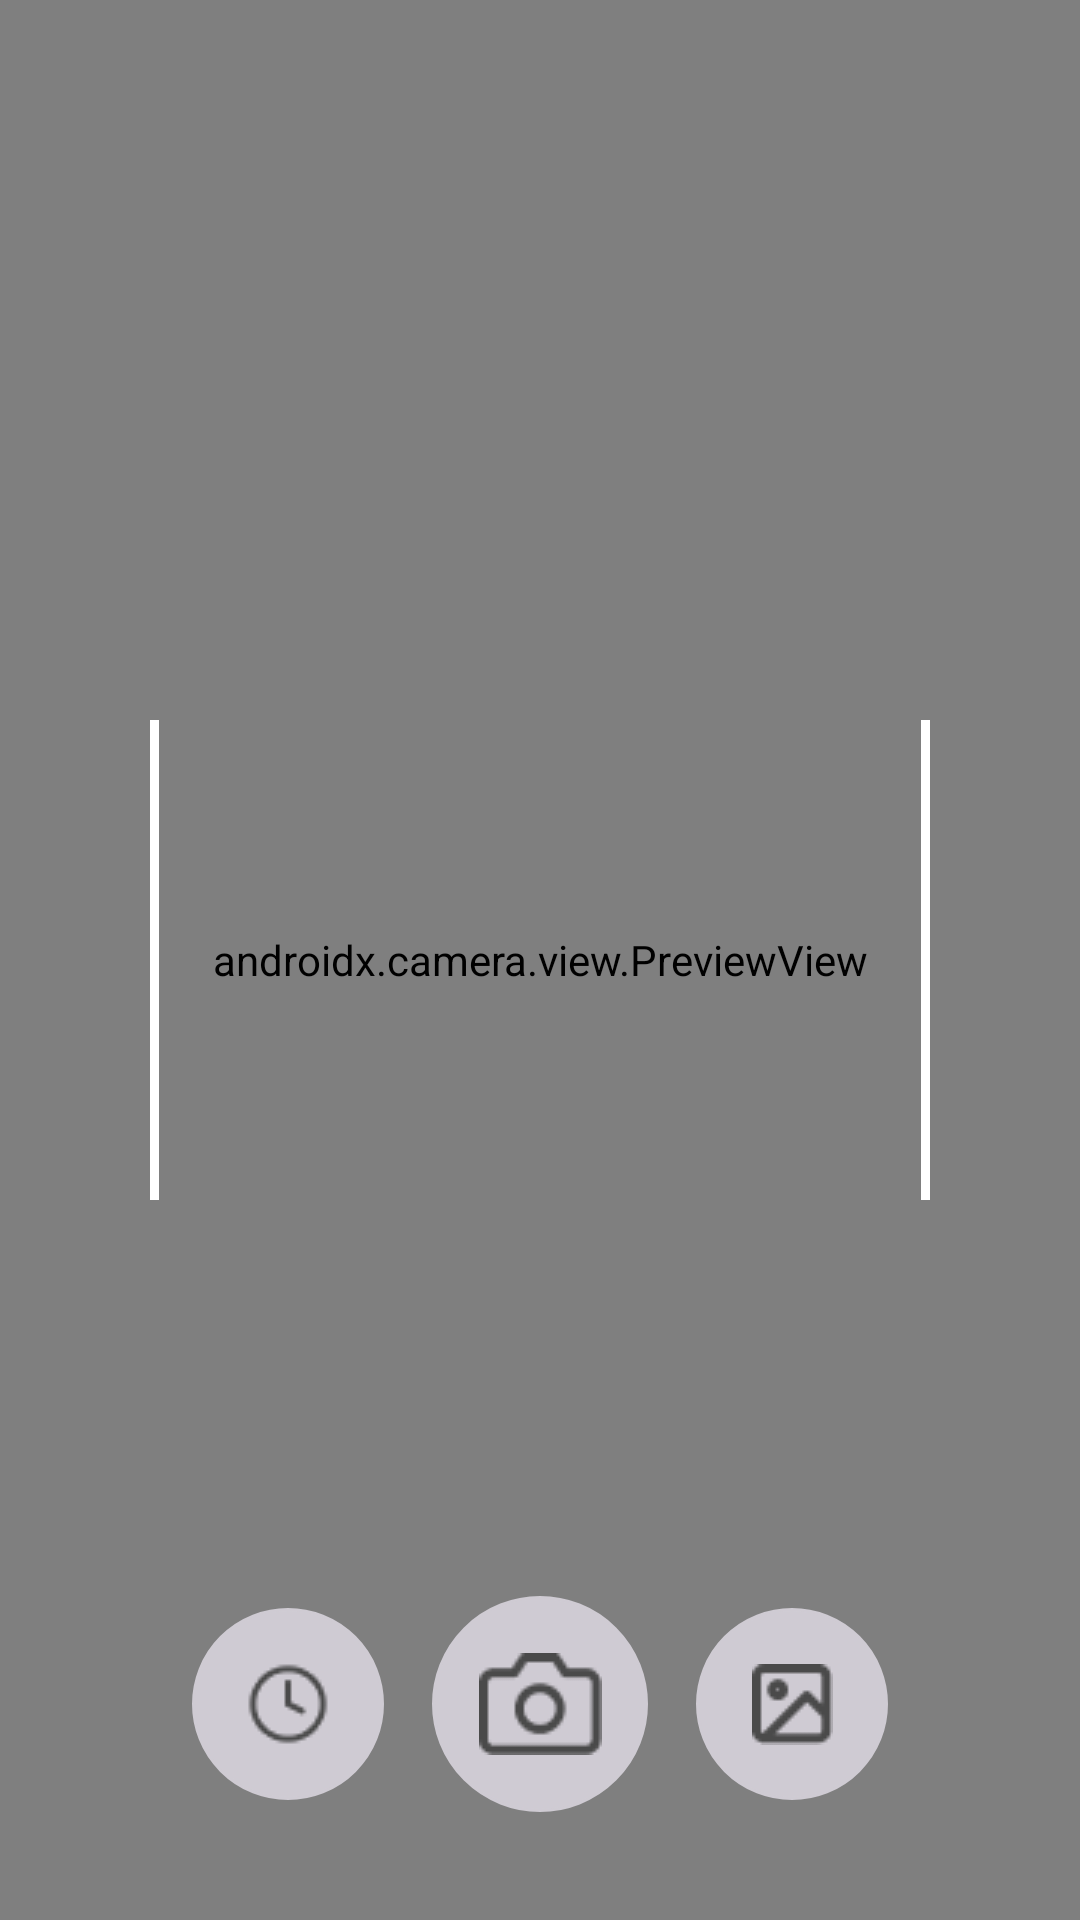

Screen size 1080 x 1920. Icon name, then its box in pixels as (x1, y1, x2, y2):
Галерея: (696, 1608, 888, 1800)
История: (192, 1608, 384, 1800)
Сделать фото: (432, 1596, 648, 1812)
